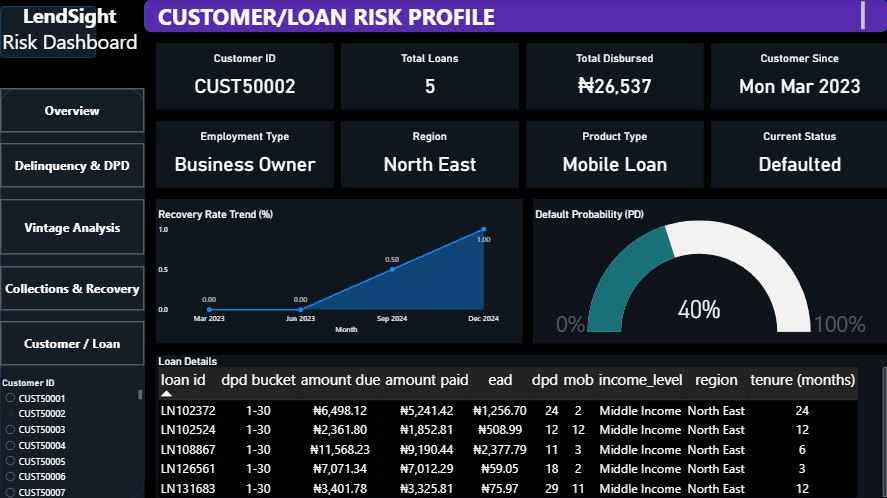

The page's visual inventory and layout, read from the dashboard file:
{"tool":"powerbi","page":{"name":"Customer/Loan Risk Profile","canvas":[1920,1080],"ordinal":4},"visuals":[{"type":"pageNavigator","box":[0,192,208,64],"z":0},{"type":"areaChart","title":"Recovery Rate Trend (%)","fields":{"Y":["cr_measures.PD"],"Category":["Calender.Month_Year"]},"box":[336,432,792,312],"z":1000},{"type":"tableEx","title":"Loan Details","fields":{"Values":["credit_risk.loan_id","credit_risk.dpd_bucket","Sum(credit_risk.amount_due)","Sum(credit_risk.amount_paid)","Sum(credit_risk.ead)","Sum(credit_risk.dpd)","Sum(credit_risk.mob)","credit_risk.income_level","credit_risk.region","Sum(credit_risk.tenure_months)"]},"box":[336,768,1584,312],"z":3000},{"type":"gauge","title":"Default Probability (PD)","fields":{"Y":["cr_measures.PD"]},"box":[1152,432,768,312],"z":4000},{"type":"shape","box":[0,16,208,112],"z":5000},{"type":"shape","box":[0,192,312,888],"z":6000},{"type":"textbox","box":[0,0,312,168],"z":7000},{"type":"actionButton","box":[0,312,312,96],"z":8000},{"type":"actionButton","box":[0,432,312,120],"z":9000},{"type":"actionButton","box":[0,576,312,96],"z":10000},{"type":"actionButton","box":[0,696,312,96],"z":11000},{"type":"actionButton","box":[0,192,312,96],"z":12000},{"type":"shape","box":[312,0,1608,72],"z":14000},{"type":"textbox","box":[336,0,1536,72],"z":16000},{"type":"card","title":"Customer ID","fields":{"Values":["Customer Measures.Customer ID"]},"box":[336,96,384,144],"z":17000},{"type":"card","title":"Employment Type","fields":{"Values":["Customer Measures.Employment Type"]},"box":[336,264,384,144],"z":18000},{"type":"card","title":"Current Status","fields":{"Values":["Customer Measures.Current Status"]},"box":[1536,264,384,144],"z":19000},{"type":"card","title":"Product Type","fields":{"Values":["Customer Measures.Product Type"]},"box":[1136,264,384,144],"z":20000},{"type":"card","title":"Customer Since","fields":{"Values":["Customer Measures.Customer Since"]},"box":[1536,96,384,144],"z":21000},{"type":"card","title":"Total Disbursed","fields":{"Values":["cr_measures.Total Disbursed"]},"box":[1136,96,384,144],"z":22000},{"type":"card","title":"Region","fields":{"Values":["Min(credit_risk.region)"]},"box":[736,264,384,144],"z":23000},{"type":"card","title":"Total Loans","fields":{"Values":["cr_measures.Total Loan"]},"box":[736,96,384,144],"z":24000},{"type":"slicer","title":"Customer ID","fields":{"Values":["credit_risk.customer_id"]},"box":[0,816,312,264],"z":25001}]}

Visuals, with their boxes on the page's 1920x1080 design canvas (x1, y1, x2, y2). These are canvas units, not pixel positions in the 887x498 screenshot, which may show the page scaled, cropped or inside an application window:
pageNavigator: region(0, 192, 208, 256)
"Recovery Rate Trend (%)" areaChart: region(336, 432, 1128, 744)
"Loan Details" tableEx: region(336, 768, 1920, 1080)
"Default Probability (PD)" gauge: region(1152, 432, 1920, 744)
shape: region(0, 16, 208, 128)
shape: region(0, 192, 312, 1080)
textbox: region(0, 0, 312, 168)
actionButton: region(0, 312, 312, 408)
actionButton: region(0, 432, 312, 552)
actionButton: region(0, 576, 312, 672)
actionButton: region(0, 696, 312, 792)
actionButton: region(0, 192, 312, 288)
shape: region(312, 0, 1920, 72)
textbox: region(336, 0, 1872, 72)
"Customer ID" card: region(336, 96, 720, 240)
"Employment Type" card: region(336, 264, 720, 408)
"Current Status" card: region(1536, 264, 1920, 408)
"Product Type" card: region(1136, 264, 1520, 408)
"Customer Since" card: region(1536, 96, 1920, 240)
"Total Disbursed" card: region(1136, 96, 1520, 240)
"Region" card: region(736, 264, 1120, 408)
"Total Loans" card: region(736, 96, 1120, 240)
"Customer ID" slicer: region(0, 816, 312, 1080)
